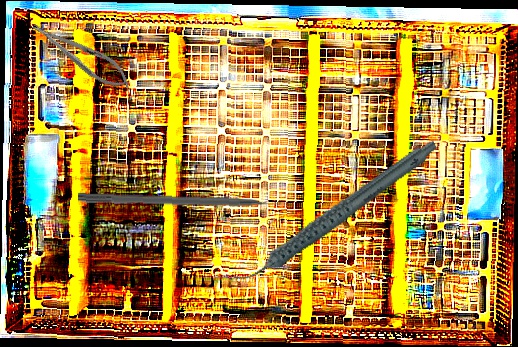Handpiece: (213, 138, 457, 286)
Needle Holder: (26, 13, 137, 97)
Pusher: (77, 192, 295, 212)
